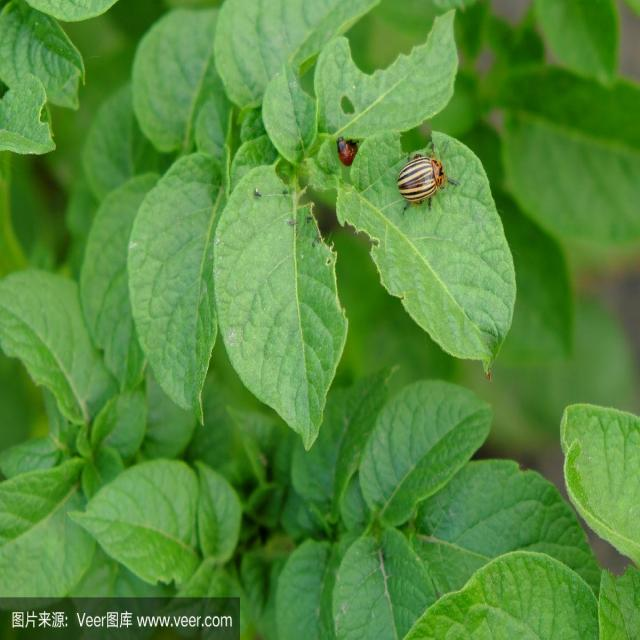ShuCaiHuaBanChong-Grown-: (392, 144, 457, 207)
